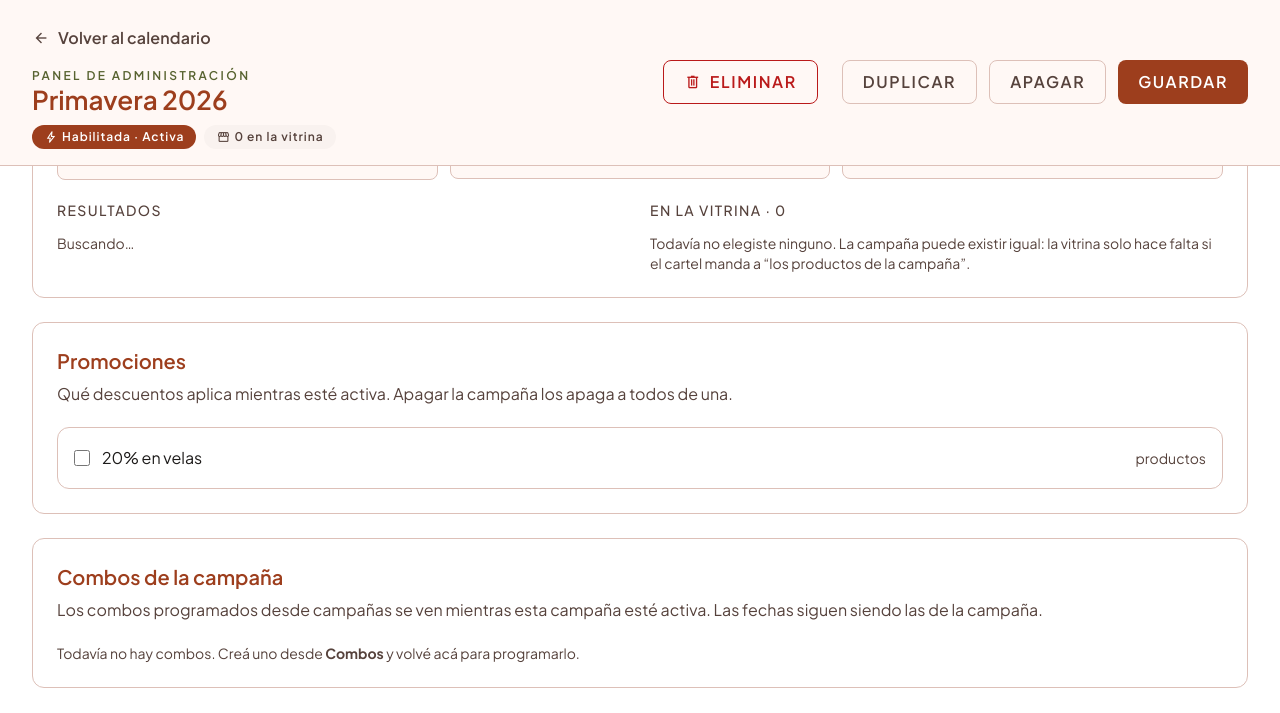
Test: AdminCampaniaEditor — los errores de las secciones que guardan solas › el fallo al guardar las promociones se ve DENTRO de la sección de promociones
(page scrolled)
Click the checkbox labelled "20% en velas productos" at (82, 458), box [74,450,90,466]
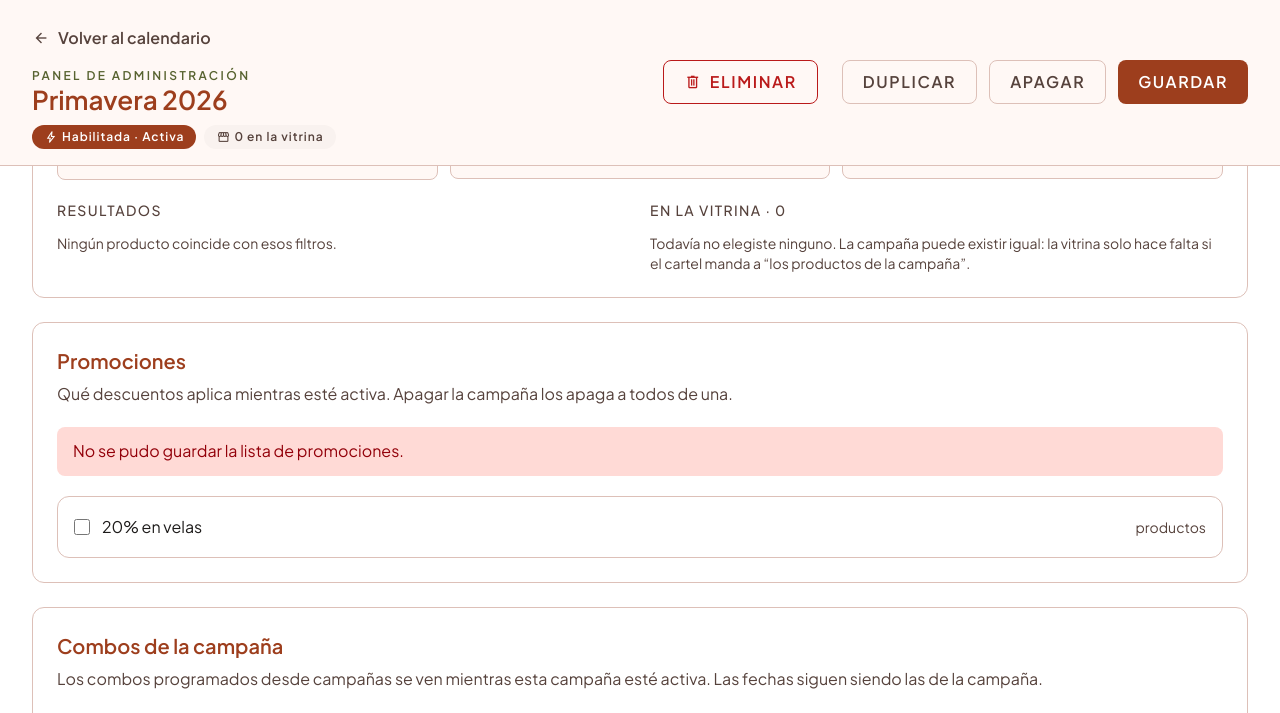
Now the text "No se pudo guardar la lista de promociones." is shown, box [57,427,1223,476]
